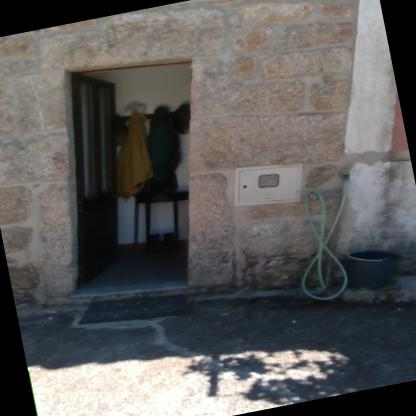open: (44, 40, 232, 308)
